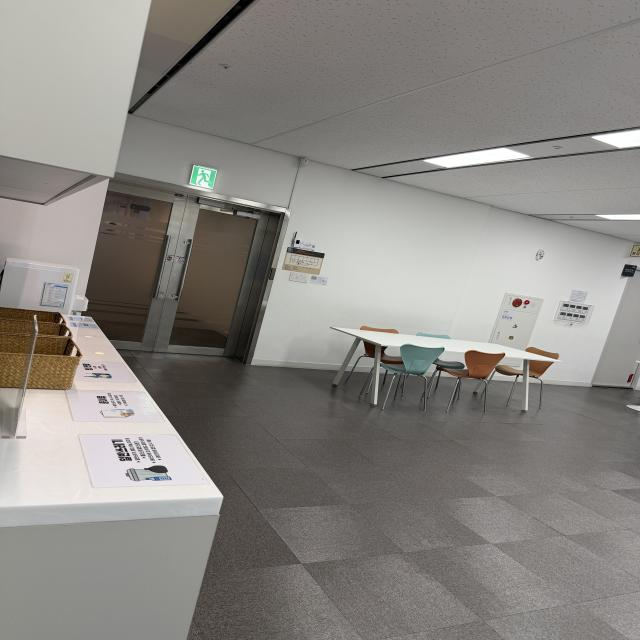rear_door: (90, 184, 280, 358)
